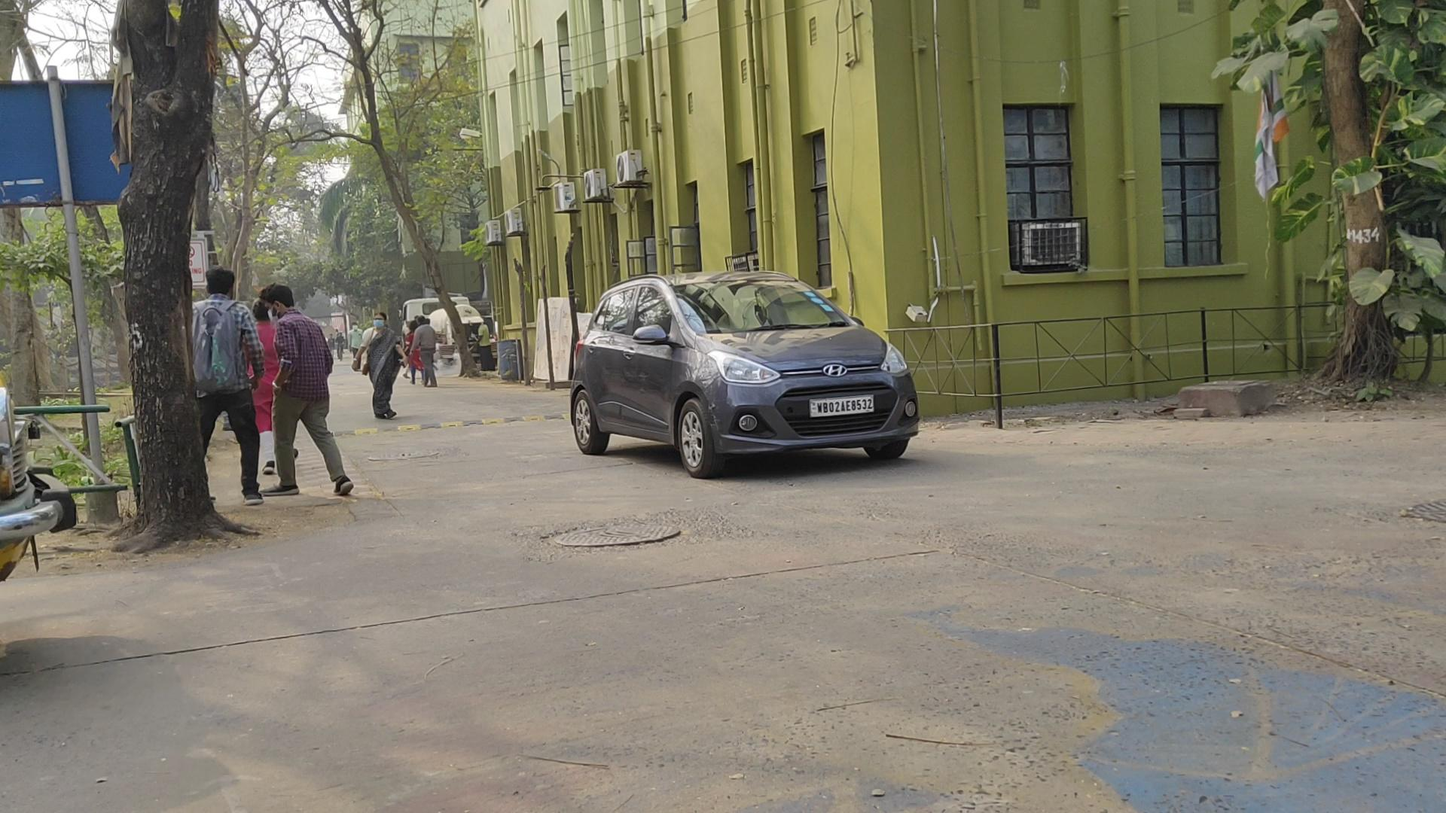car: (569, 271, 919, 480)
